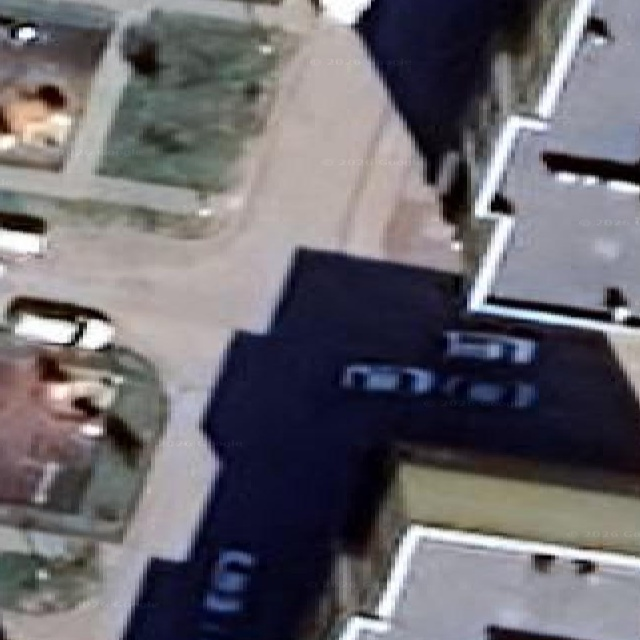car: (340, 363, 537, 408), (6, 297, 114, 349), (439, 375, 536, 408), (444, 330, 536, 364), (340, 363, 435, 395), (0, 16, 48, 46)
